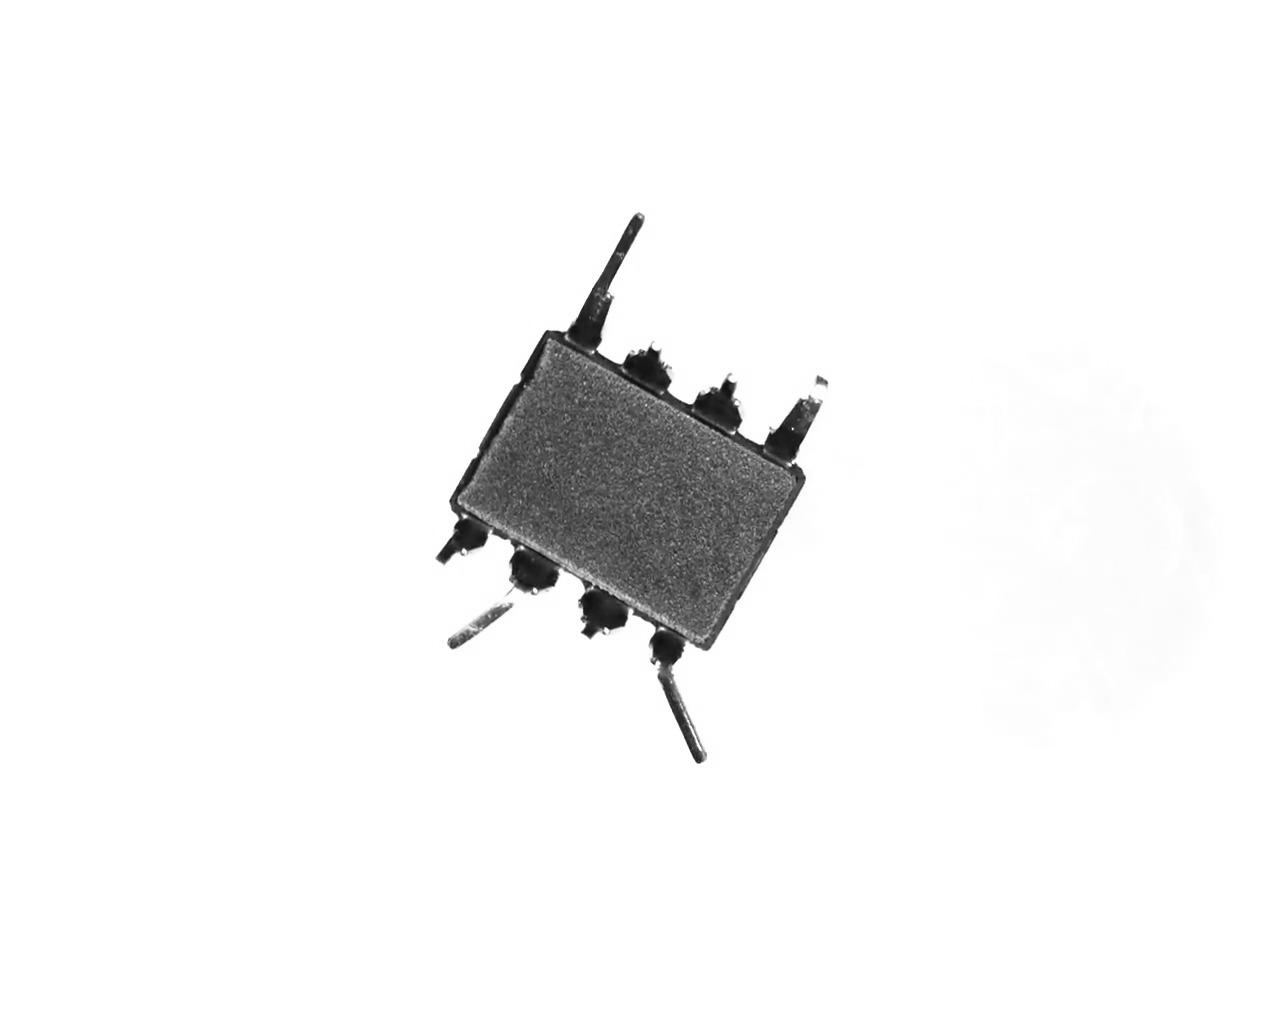Leg: (442, 540, 564, 657), (566, 194, 642, 360), (639, 629, 724, 774), (761, 363, 835, 479)
brokenLeg: (563, 577, 634, 643), (422, 510, 493, 576), (691, 371, 747, 439), (622, 340, 680, 393)
